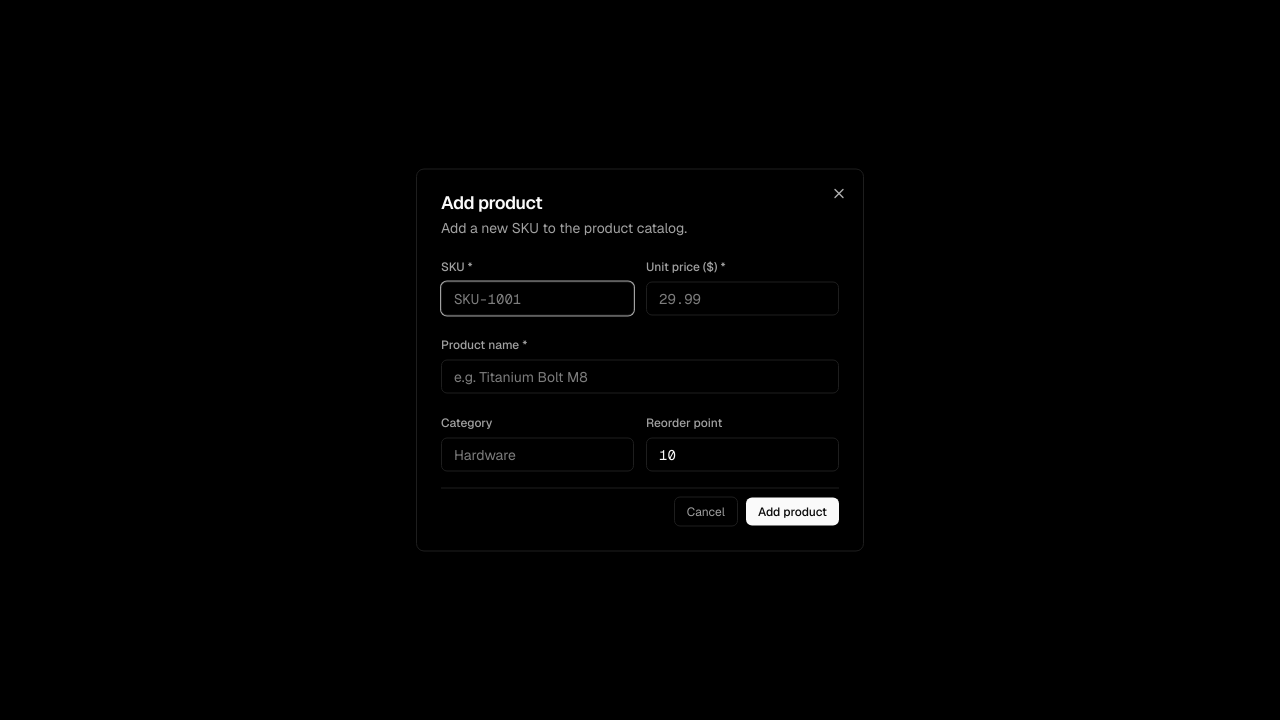
Scenario: ProductFormDialog › shows validation error for empty SKU
This screenshot has width=1280, height=720.
Click the button "Add product" at (792, 512), box [746, 498, 839, 526]
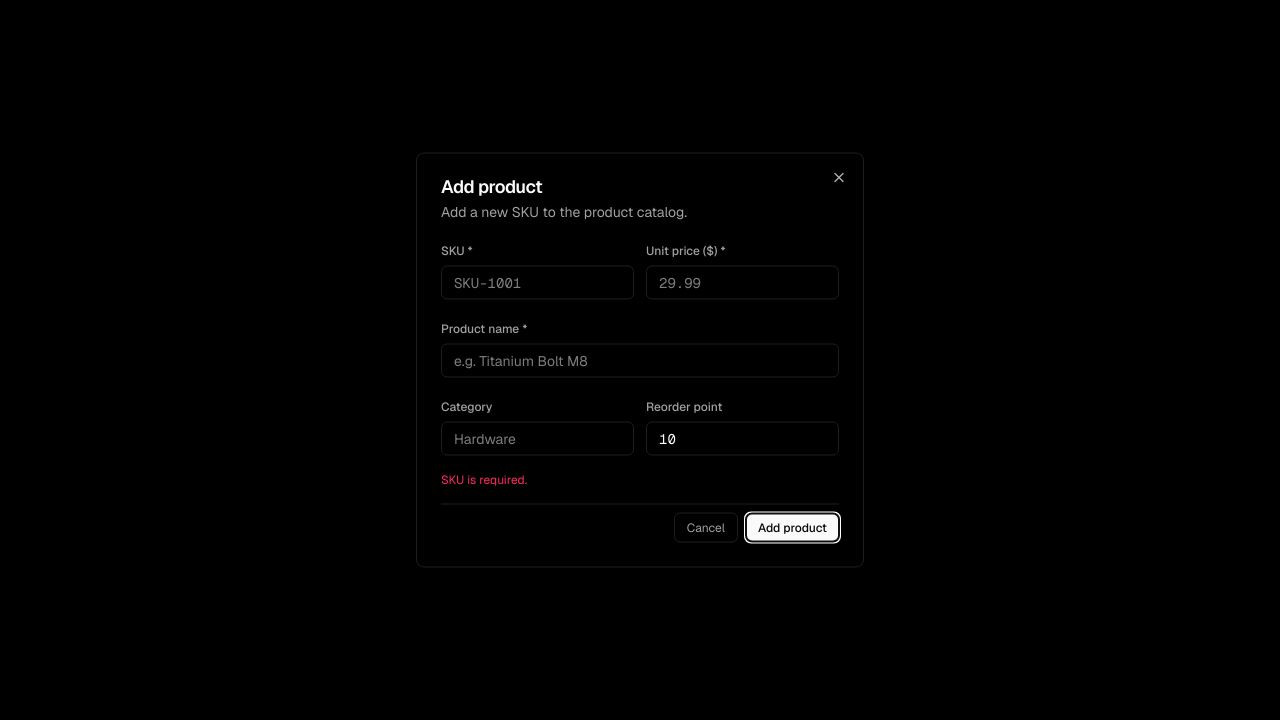
Expected: the text "SKU is required." is shown, [441, 472, 527, 488]
